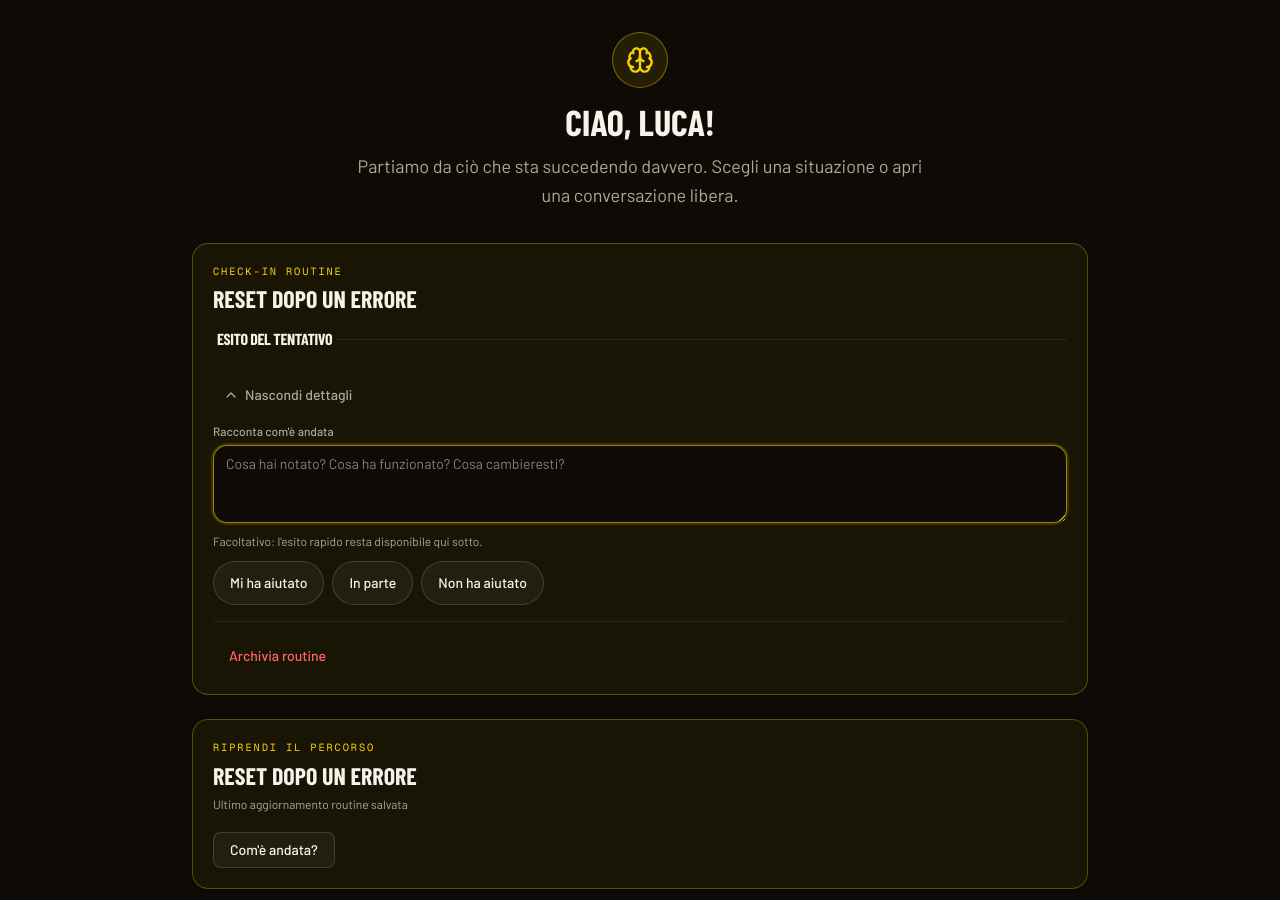
Test case: chat landing page › keeps an orphan routine retryable when the archive request fails
Expected: the element "Esito del tentativo" is shown, [213, 327, 1067, 605]
Click the button "Archivia routine" at (278, 656), box [213, 638, 342, 674]
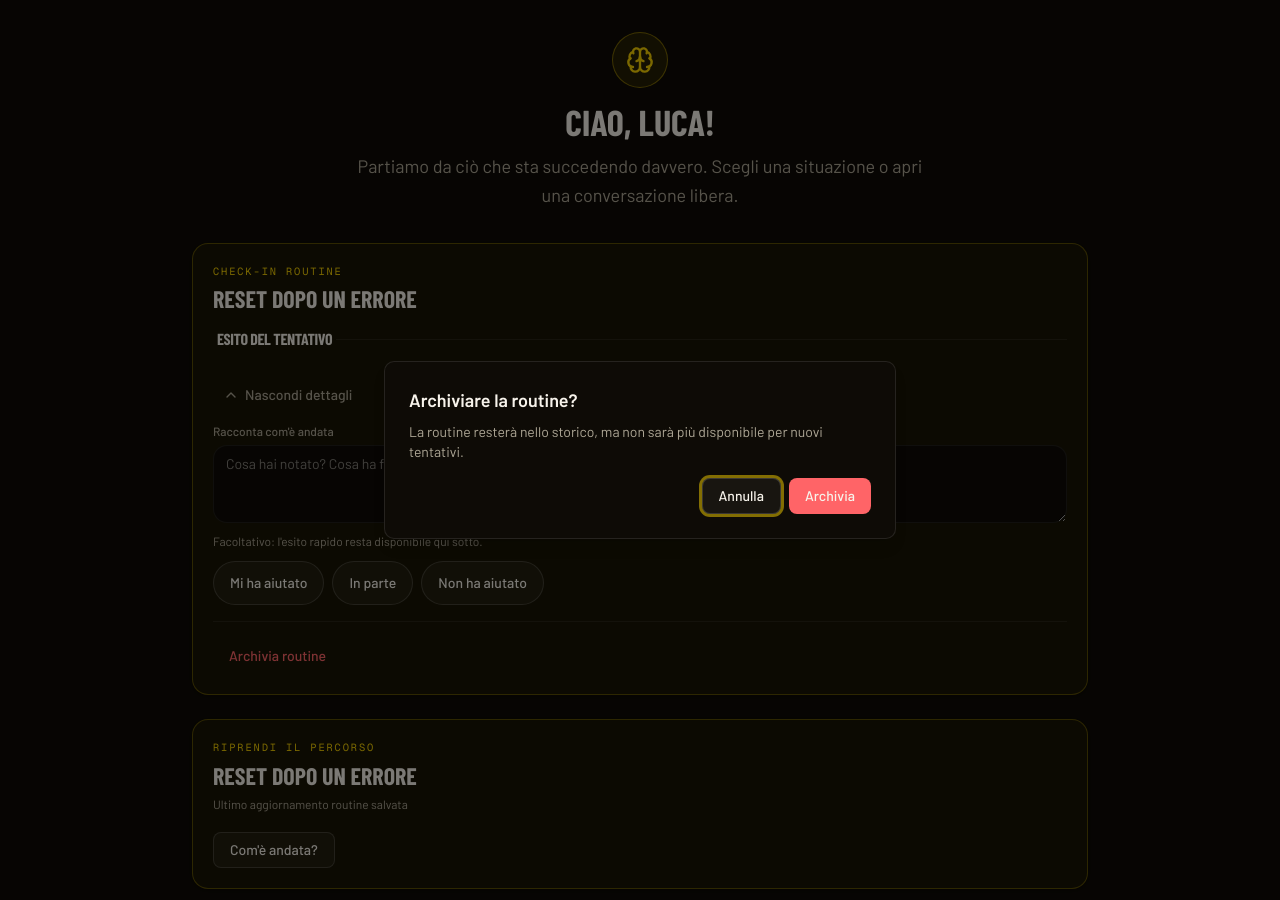
Click the button "Archivia" at (830, 496), box [789, 478, 871, 514]
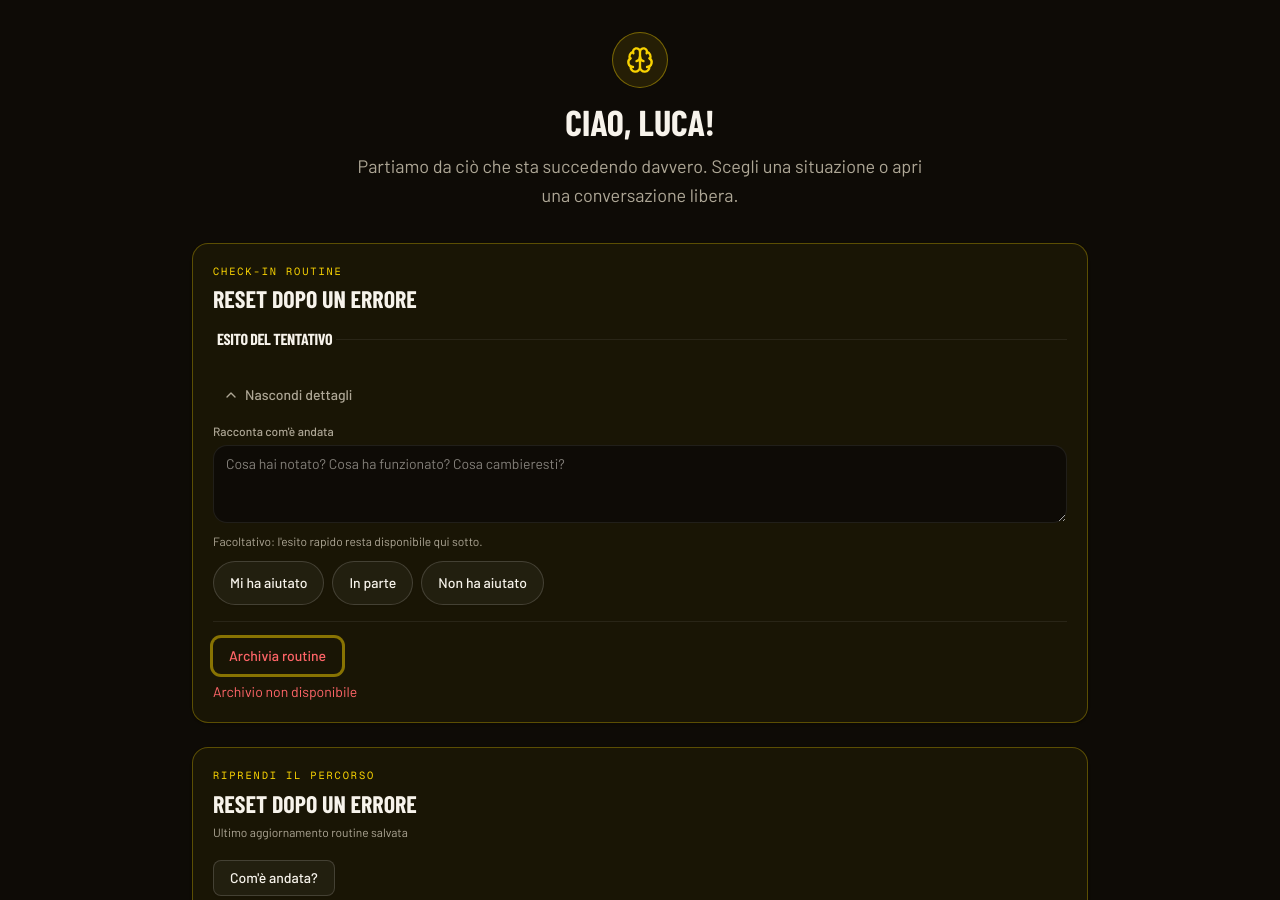
Expected: the element "Esito del tentativo" is shown, [213, 327, 1067, 605]
Result: the message reads "Archivio non disponibile" at [213, 683, 357, 700]
